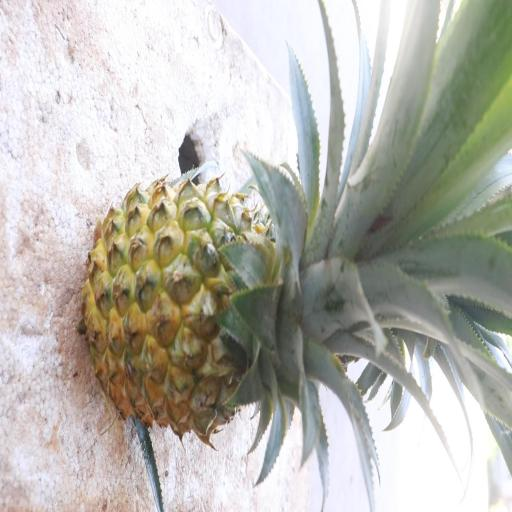Pineapple - v8 v1: (77, 166, 393, 453)
